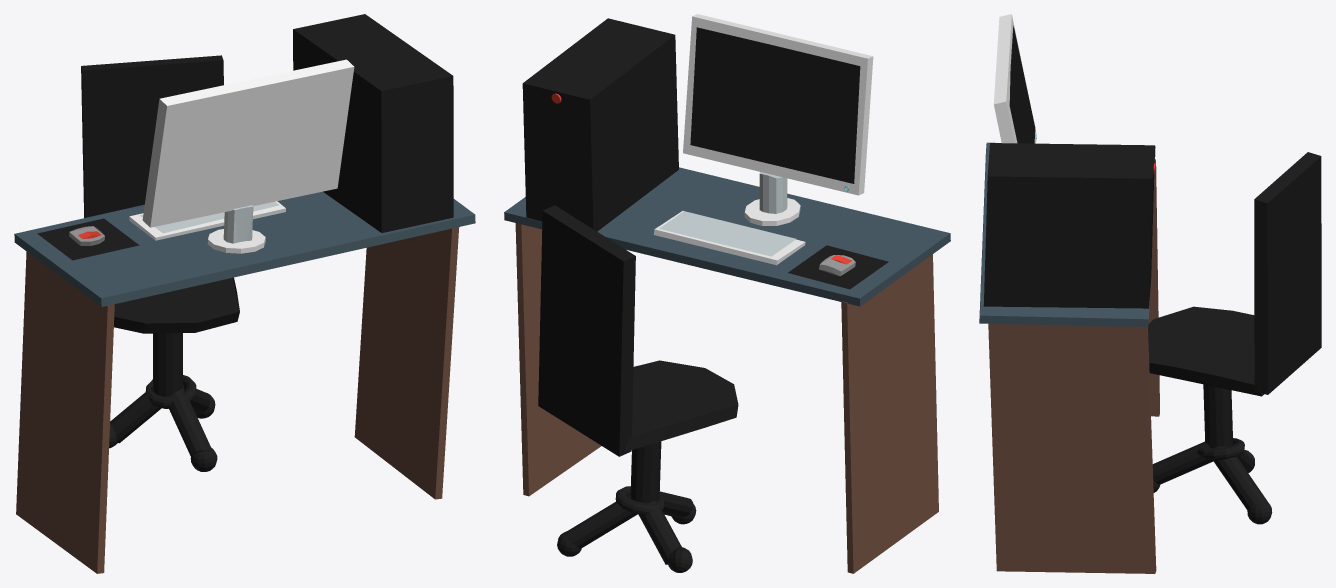
Rendered from desk_optimized.glb.
3 renders of one model, left to right at view 1: azimuth 30°, elevation 25°; view 2: azimuth 150°, elevation 25°; view 3: azimuth 270°, elevation 25°, orthographic. The views are drawn at different scales.
Bounding box in the file's own units: 1.48 × 1.74 × 1.25.
